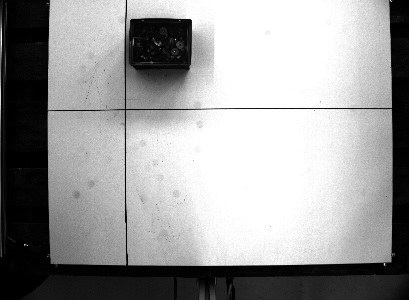klts: (126, 14, 193, 71)
